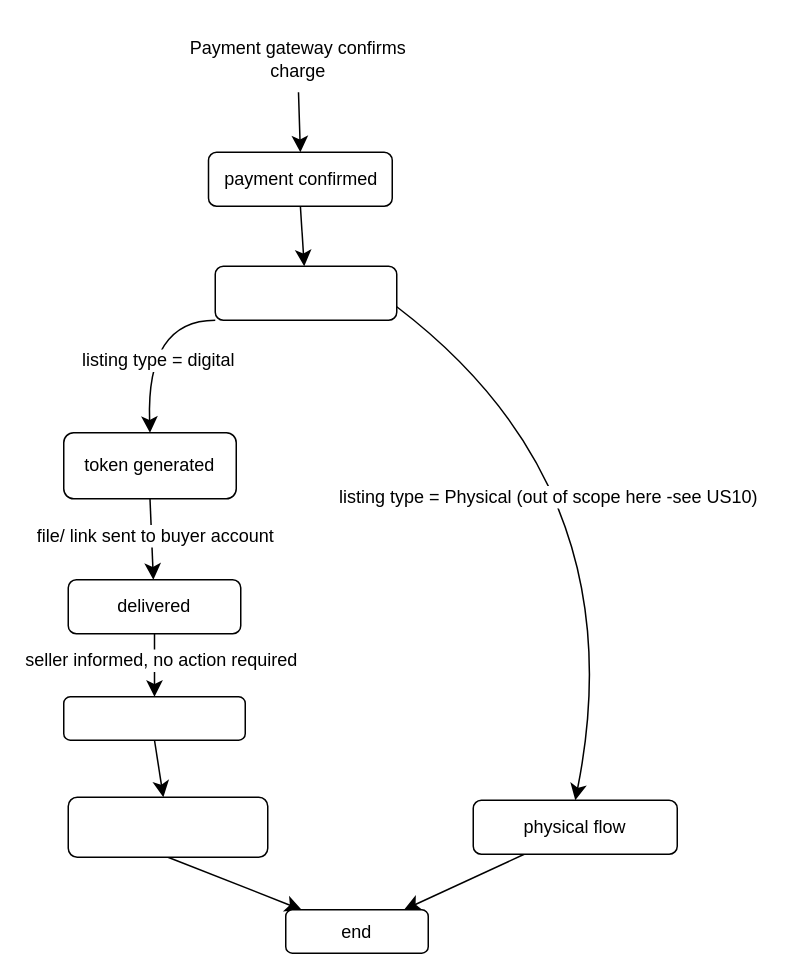
Some shapes in this 785 by 980 pixel diagram are drawn without their labels. Each missing label, with the centre of its shape:
"fulfilled" belongs at (x=167, y=826).
"listing type check" belongs at (x=305, y=292).
"seller notified" belongs at (x=153, y=717).
